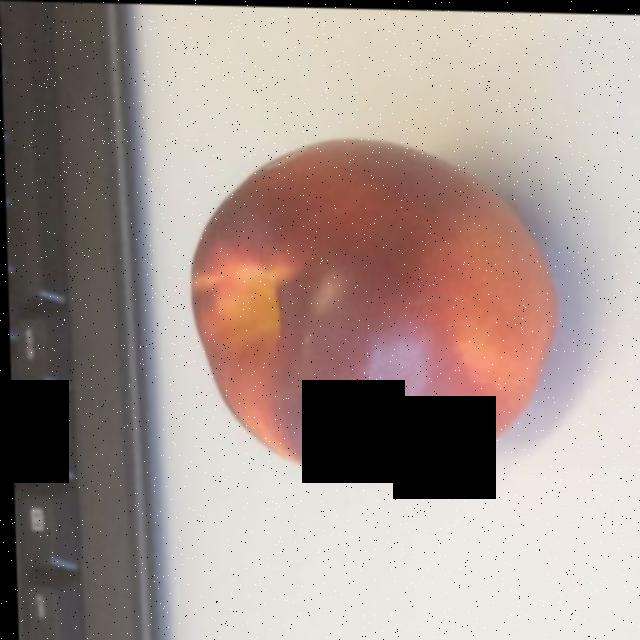nectarine: (161, 146, 584, 476), (191, 137, 550, 473)
